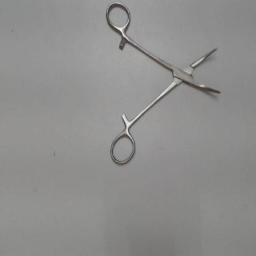Crile Artery Forceps: (102, 1, 226, 169)
